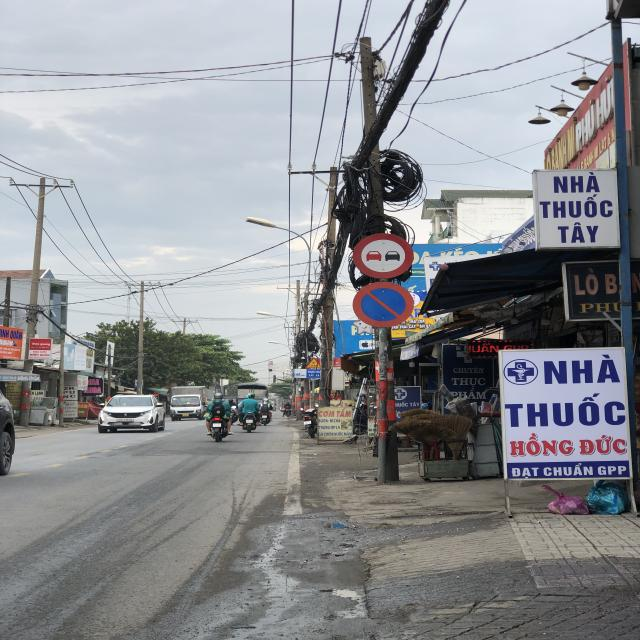Bien bao cam do xe: (352, 282, 417, 332)
Bien bao cam vuot: (350, 233, 416, 280)
